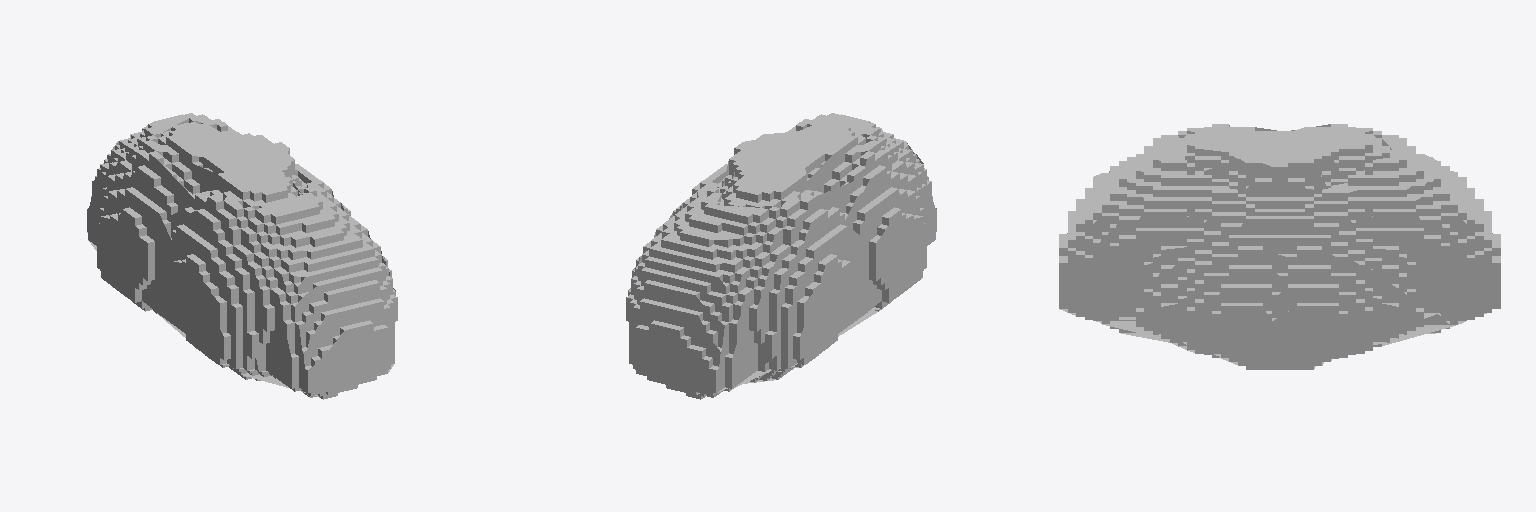
File: Shirt_Tunic_Male1.obj
3 renders of one model, left to right at view 1: azimuth 30°, elevation 25°; view 2: azimuth 150°, elevation 25°; view 3: azimuth 270°, elevation 25°, orthographic.
Visible parts, largest first — view 1: Shirt_Tunic_Male1; view 2: Shirt_Tunic_Male1; view 3: Shirt_Tunic_Male1.
Boxes of the visible parts, <box> form: Shirt_Tunic_Male1: <box>87,113,397,399</box>; Shirt_Tunic_Male1: <box>626,113,936,399</box>; Shirt_Tunic_Male1: <box>1059,124,1500,369</box>.
Bounding box in the file's own units: 0.26 × 0.27 × 0.52.